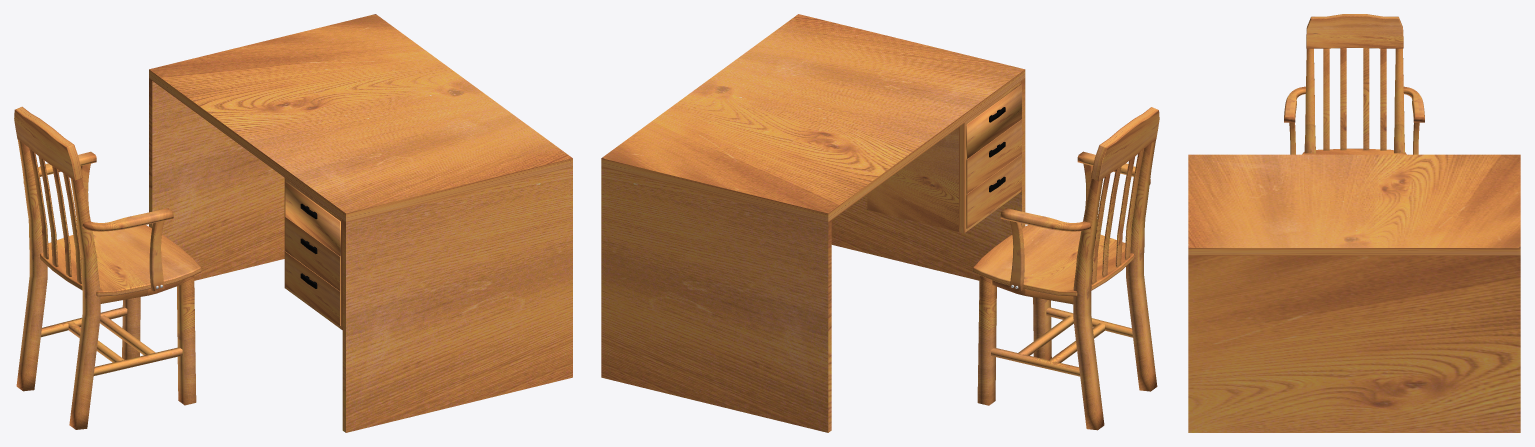
The model's file is teacherdesk.fbx.
3 renders of one model, left to right at view 1: azimuth 30°, elevation 25°; view 2: azimuth 150°, elevation 25°; view 3: azimuth 270°, elevation 25°, orthographic. The views are drawn at different scales.
Parts seen in each view (by area): view 1: teacherdesk, teacherchair, teacherdeskdrawer1, teacherdeskdrawer2, teacherdeskdrawer3; view 2: teacherdesk, teacherchair, teacherdeskdrawer1, teacherdeskdrawer2, teacherdeskdrawer3; view 3: teacherdesk, teacherchair.
Boxes of the visible parts, left/top/right/bottom form: teacherdesk: left=149, top=14, right=572, bottom=432; teacherchair: left=14, top=106, right=201, bottom=429; teacherdeskdrawer1: left=285, top=181, right=340, bottom=256; teacherdeskdrawer2: left=285, top=217, right=340, bottom=290; teacherdeskdrawer3: left=285, top=251, right=340, bottom=325; teacherdesk: left=601, top=14, right=1025, bottom=432; teacherchair: left=973, top=107, right=1159, bottom=430; teacherdeskdrawer1: left=966, top=84, right=1021, bottom=158; teacherdeskdrawer2: left=966, top=119, right=1021, bottom=193; teacherdeskdrawer3: left=966, top=154, right=1021, bottom=228; teacherdesk: left=1188, top=154, right=1520, bottom=432; teacherchair: left=1284, top=14, right=1424, bottom=154.
Size of the model in its own units: 47.02 by 29.55 by 36.87.
5 materials, 2 textured.
